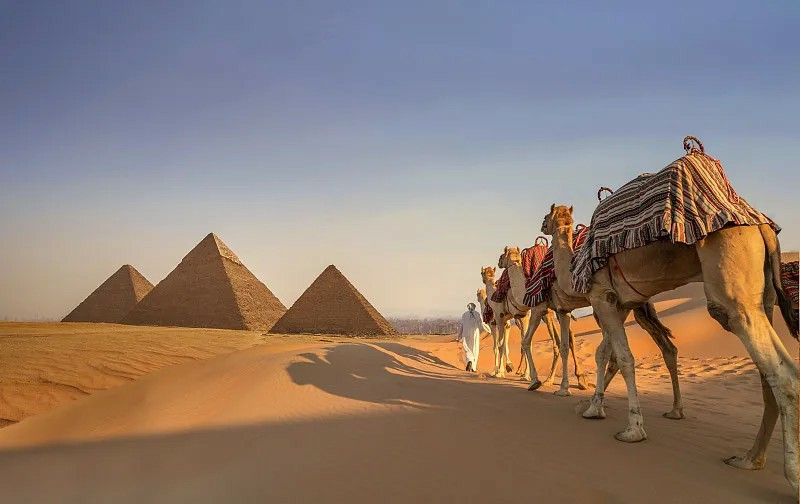Pyramid: (122, 233, 288, 331), (269, 265, 399, 336), (61, 265, 155, 321)
